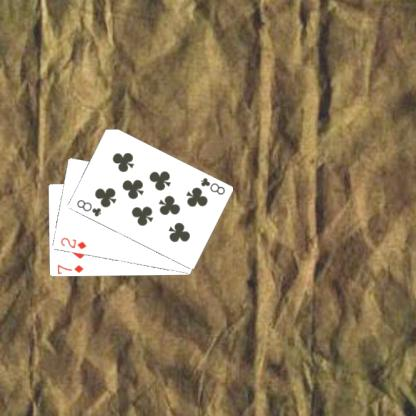2D: (58, 235, 87, 250)
7D: (54, 262, 85, 274)
8C: (197, 175, 226, 196), (74, 197, 102, 218)
